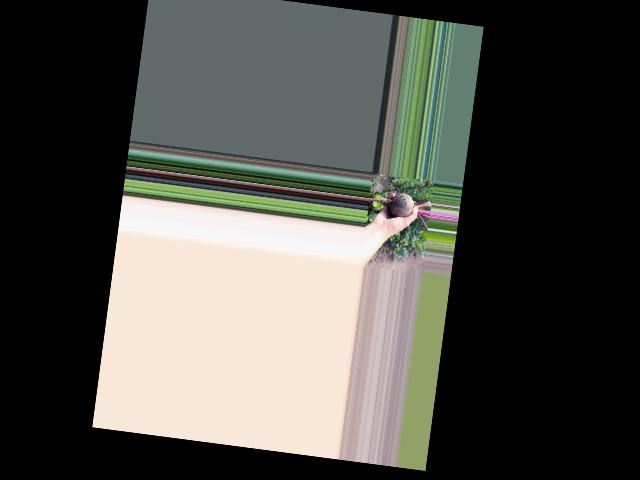beet: (364, 179, 433, 230)
